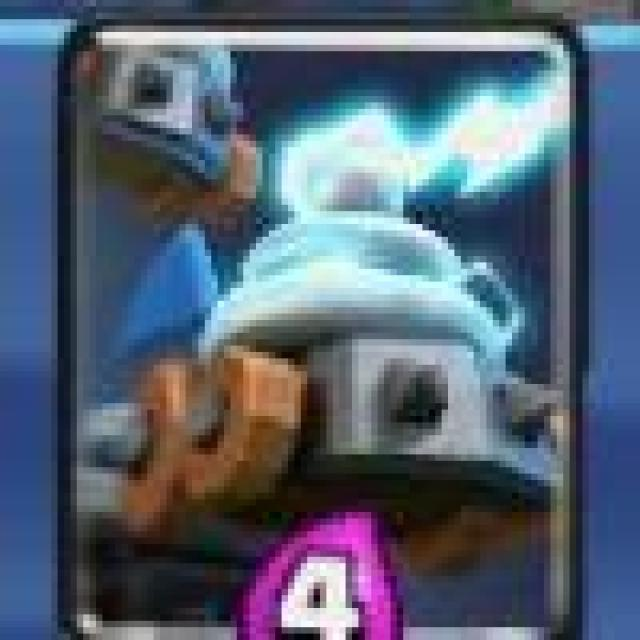Zappies: (55, 21, 572, 636)
